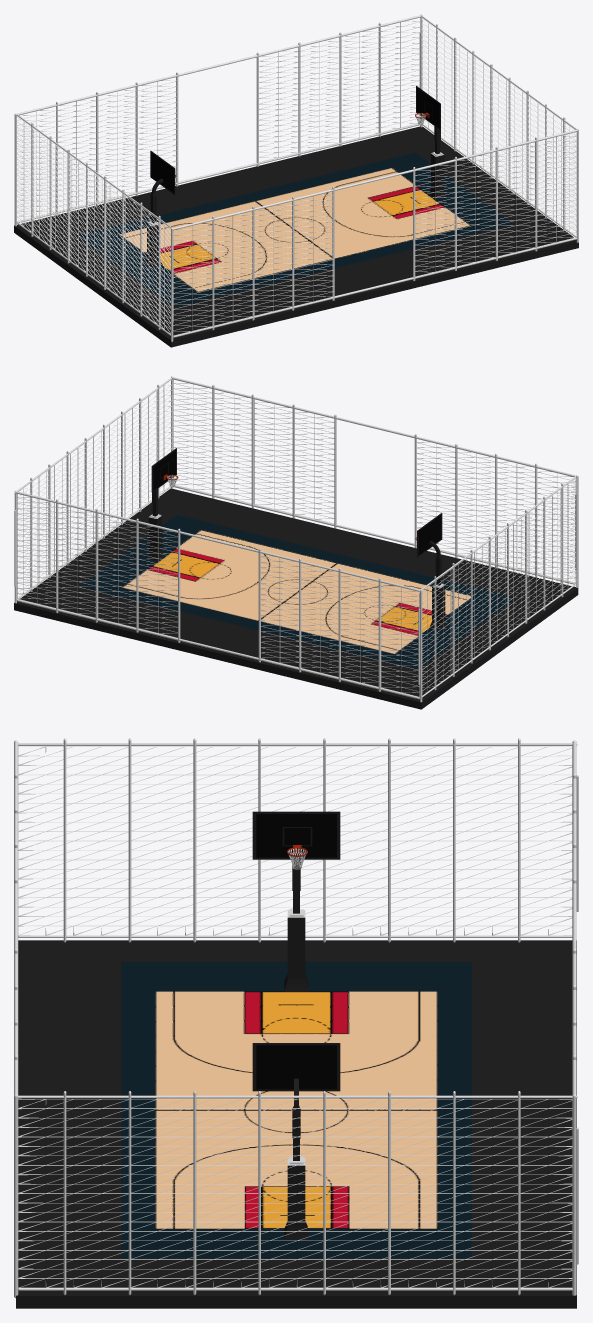
File: BasketballCourt.fbx
The picture shows the model from 3 angles, top to bottom: view 1: azimuth 30°, elevation 25°; view 2: azimuth 150°, elevation 25°; view 3: azimuth 270°, elevation 25°; orthographic projection. The views are drawn at different scales.
Parts seen in each view (by area): view 1: Cube, Plane, Sweep_NURBS_4, Sweep_NURBS, Sweep_NURBS_3, Sweep_NURBS_2, Cube_2_4, Cube_2, Cube_1_4, Cube_1, BasketballHoopBody, BasketballHoopBody_4 (+2 smaller); view 2: Cube, Plane, Sweep_NURBS, Sweep_NURBS_4, Sweep_NURBS_3, Sweep_NURBS_2, Cube_2_4, Cube_2, Cube_1, Cube_1_4, BasketballHoopBody, BasketballHoopBody_4 (+2 smaller); view 3: Cube, Plane, Sweep_NURBS_2, Sweep_NURBS_3, Cube_4_5, Cube_2_5, Cube_2_2, BasketballHoopBody_4, BasketballHoopBody, Cube_2_3, Cube_1_2, Cube_2 (+10 smaller).
Part boxes in pixels (bbox=[...]): Cube: bbox=[14, 126, 578, 347]; Plane: bbox=[76, 152, 513, 307]; Sweep_NURBS_4: bbox=[171, 132, 576, 336]; Sweep_NURBS: bbox=[17, 17, 420, 221]; Sweep_NURBS_3: bbox=[17, 116, 170, 334]; Sweep_NURBS_2: bbox=[421, 18, 576, 236]; Cube_2_4: bbox=[173, 129, 577, 230]; Cube_2: bbox=[16, 15, 421, 115]; Cube_1_4: bbox=[173, 237, 576, 337]; Cube_1: bbox=[17, 123, 420, 222]; BasketballHoopBody: bbox=[144, 178, 163, 268]; BasketballHoopBody_4: bbox=[428, 126, 446, 198]; Cube: bbox=[14, 488, 578, 709]; Plane: bbox=[79, 515, 515, 669]; Sweep_NURBS: bbox=[17, 494, 419, 696]; Sweep_NURBS_4: bbox=[173, 380, 576, 582]; Sweep_NURBS_3: bbox=[419, 478, 575, 698]; Sweep_NURBS_2: bbox=[15, 379, 171, 599]; Cube_2_4: bbox=[172, 377, 576, 476]; Cube_2: bbox=[16, 491, 420, 591]; Cube_1: bbox=[16, 599, 419, 699]; Cube_1_4: bbox=[172, 485, 576, 584]; BasketballHoopBody: bbox=[429, 541, 447, 630]; BasketballHoopBody_4: bbox=[146, 489, 164, 560]; Cube: bbox=[16, 940, 576, 1308]; Plane: bbox=[121, 962, 471, 1258]; Sweep_NURBS_2: bbox=[18, 1098, 572, 1288]; Sweep_NURBS_3: bbox=[18, 746, 572, 935]; Cube_4_5: bbox=[252, 1043, 340, 1091]; Cube_2_5: bbox=[252, 811, 340, 859]; Cube_2_2: bbox=[17, 1095, 577, 1098]; BasketballHoopBody_4: bbox=[284, 1078, 308, 1239]; BasketballHoopBody: bbox=[284, 860, 308, 991]; Cube_2_3: bbox=[17, 743, 577, 745]; Cube_1_2: bbox=[18, 1288, 572, 1290]; Cube_2: bbox=[572, 742, 576, 1095].
Bounding box in the file's own units: 4804 × 1363 × 3223.
Materials: 5 (1 with a texture image).
